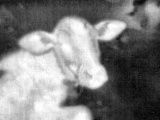eye: (56, 38, 72, 51)
